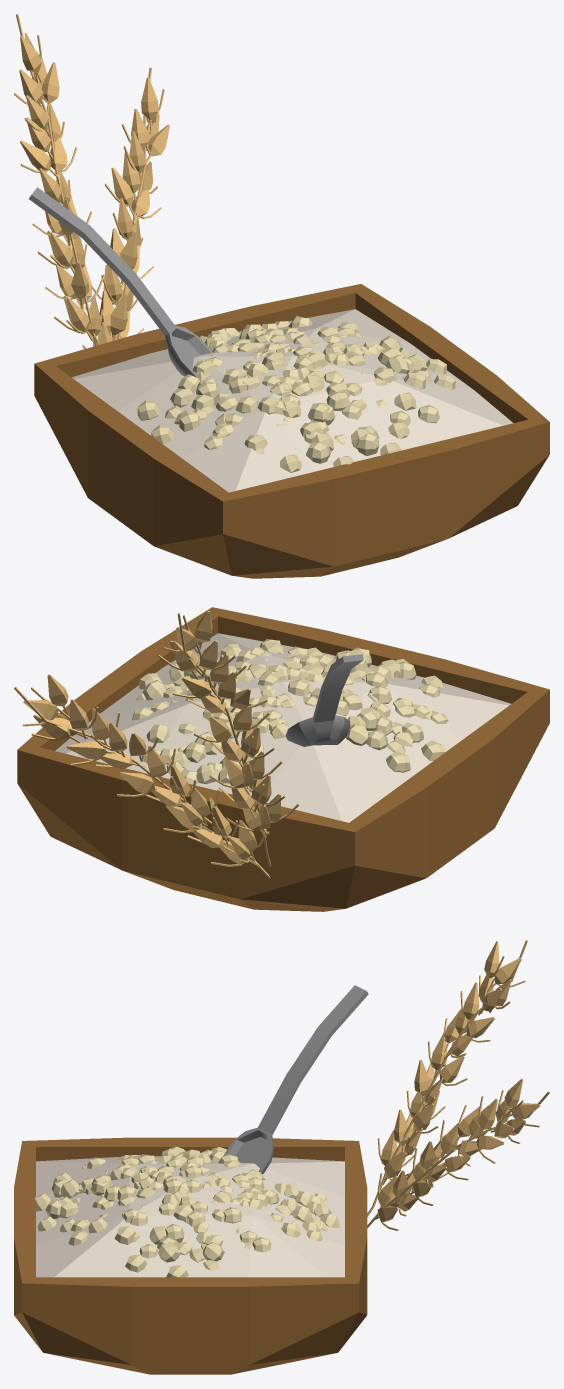
Rendered from Avena.fbx.
3 views of the same model, one above another, from view 1: azimuth 30°, elevation 25°; view 2: azimuth 150°, elevation 25°; view 3: azimuth 270°, elevation 25° (orthographic). The views are drawn at different scales.
Visible parts, largest first — view 1: pCube30; view 2: pCube30; view 3: pCube30.
Boxes of the visible parts, <box> form: pCube30: <box>14,14,549,578</box>; pCube30: <box>14,607,549,911</box>; pCube30: <box>14,940,549,1374</box>.
Bounding box in the file's own units: 9.92 × 11.18 × 15.05.
